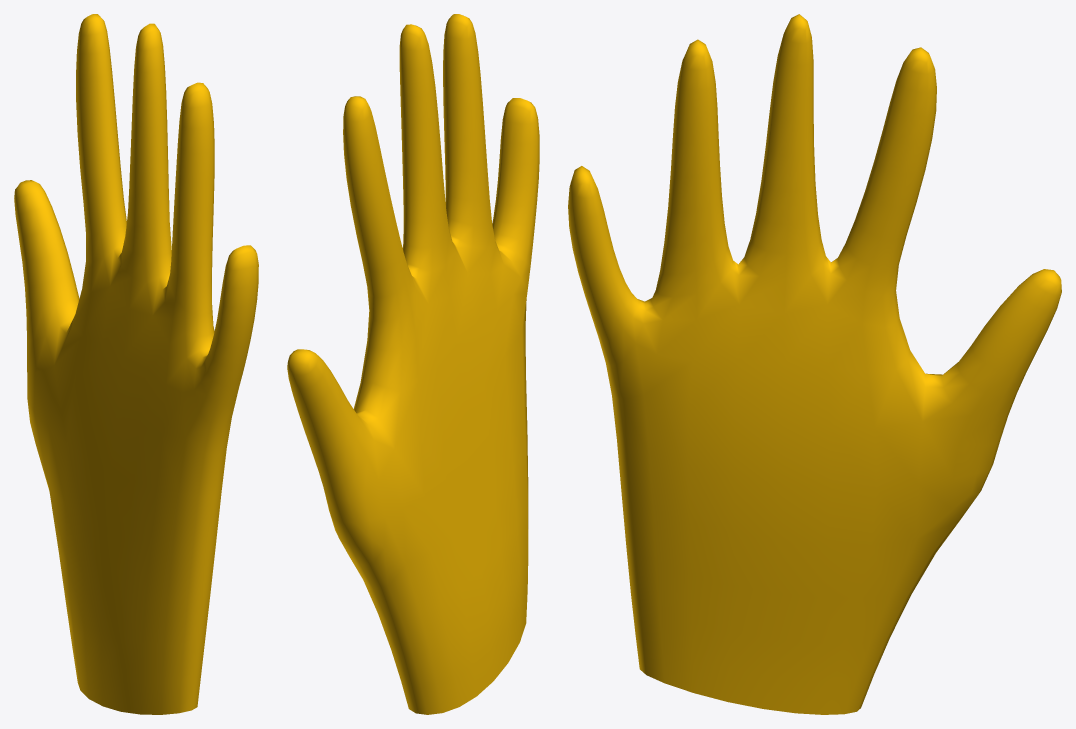
File: New_Hand_Final.fbx
3 renders of one model, left to right at view 1: azimuth 30°, elevation 25°; view 2: azimuth 150°, elevation 25°; view 3: azimuth 270°, elevation 25°, orthographic. The views are drawn at different scales.
Visible parts, largest first — view 1: Hand; view 2: Hand; view 3: Hand.
Boxes of the visible parts, x1,y1,x2,y2 form: Hand: (14,14,258,714); Hand: (287,14,539,714); Hand: (568,14,1061,714).
Size of the model in its own units: 78.9 by 632 by 398.
Materials: 1 (1 with a texture image).
